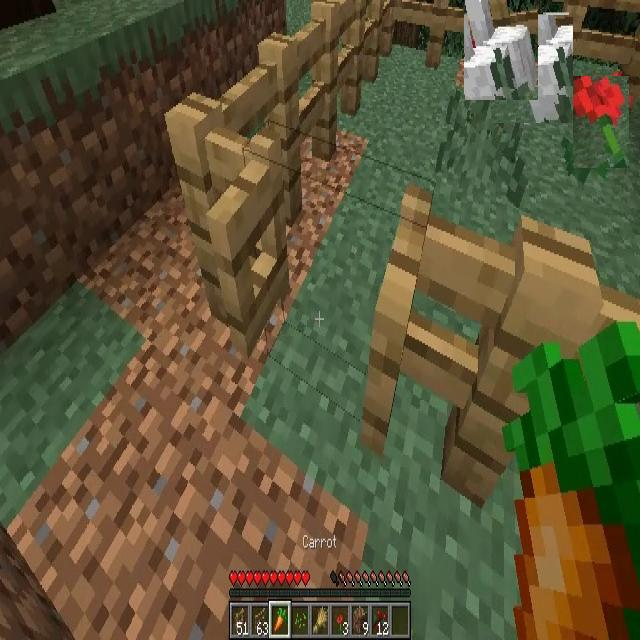duck: (492, 15, 574, 124), (464, 0, 538, 100)
flower: (573, 76, 629, 168)
